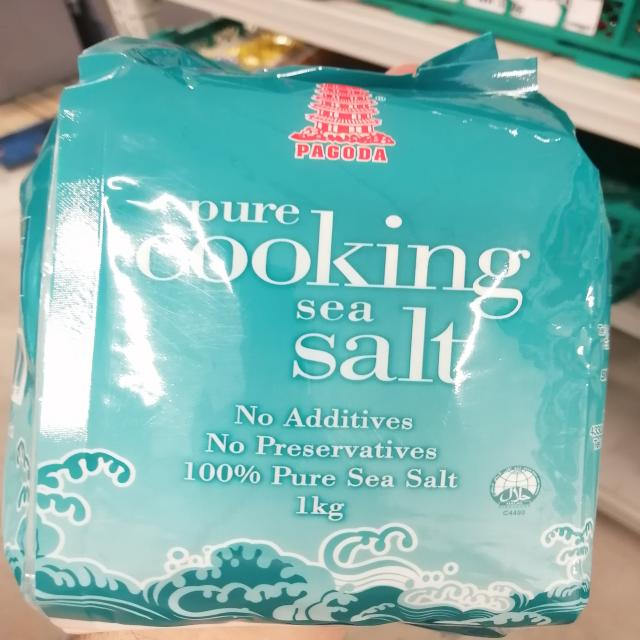object_name: (56, 82, 589, 616)
